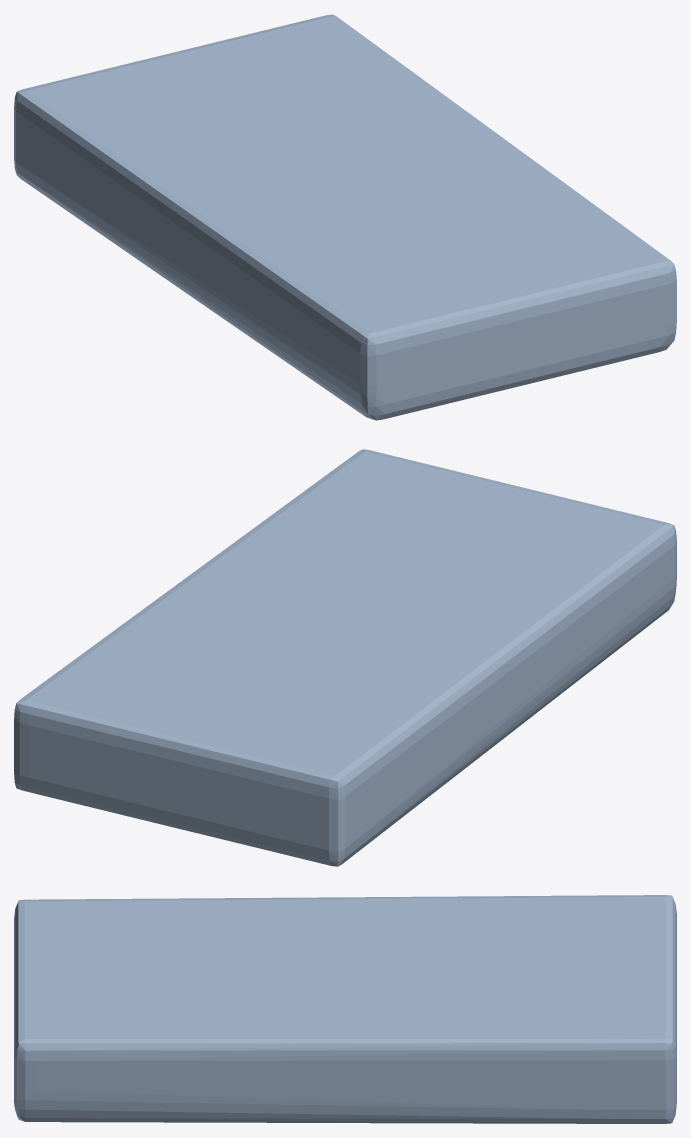
Rendered from right_hip_pitch_link_part_6.obj.
The picture shows the model from 3 angles, top to bottom: view 1: azimuth 30°, elevation 25°; view 2: azimuth 150°, elevation 25°; view 3: azimuth 270°, elevation 25°; orthographic projection. The views are drawn at different scales.
Size of the model in its own units: 0.07 by 0.0179 by 0.129.
